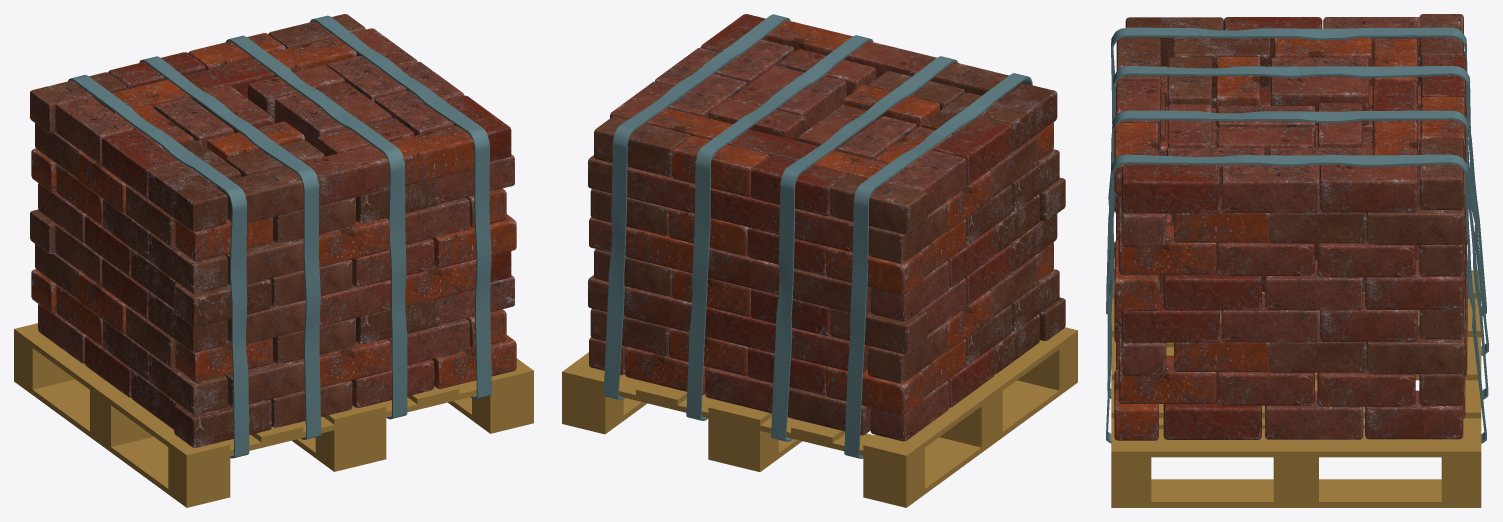
File: BrickPallet_low.fbx
The picture shows the model from 3 angles, left to right: view 1: azimuth 30°, elevation 25°; view 2: azimuth 150°, elevation 25°; view 3: azimuth 270°, elevation 25°; orthographic projection. The views are drawn at different scales.
Visible parts, largest first — view 1: CombinedBricks_low, Straps_low, Pallet_low; view 2: CombinedBricks_low, Straps_low, Pallet_low; view 3: CombinedBricks_low, Pallet_low, Straps_low.
Boxes of the visible parts, x1,y1,x2,y2 form: CombinedBricks_low: [30, 14, 516, 447]; Straps_low: [68, 15, 491, 458]; Pallet_low: [14, 323, 533, 507]; CombinedBricks_low: [588, 14, 1065, 441]; Straps_low: [603, 14, 1032, 458]; Pallet_low: [562, 327, 1077, 507]; CombinedBricks_low: [1114, 14, 1467, 440]; Pallet_low: [1111, 270, 1481, 507]; Straps_low: [1106, 27, 1488, 443].
Bounding box in the file's own units: 192 × 159 × 171.
